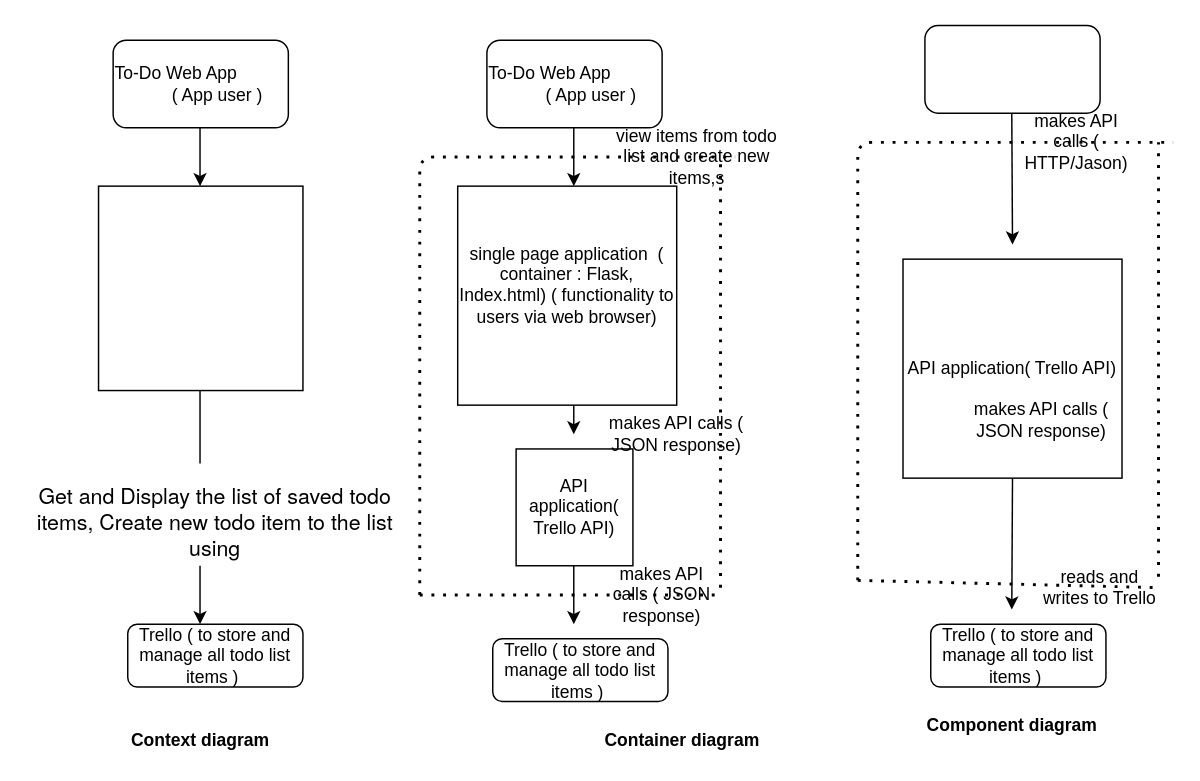
Image size: 1200x781. Some labels were removed from this diagram. The shapes that lost their labels are listed below. From the top down, each one's box as (x1, y1, x2, y2) in pixels, then its label:
(923, 24, 1100, 113): Single Page Application ( container : Flask, Index.html)
(97, 185, 303, 391): To-Do App ( Allows user to view and create todo items)
